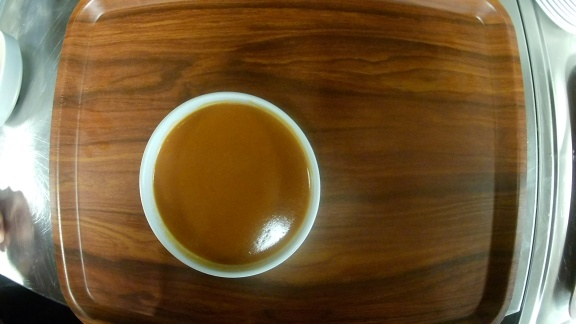domatescorba: (137, 90, 321, 280)
